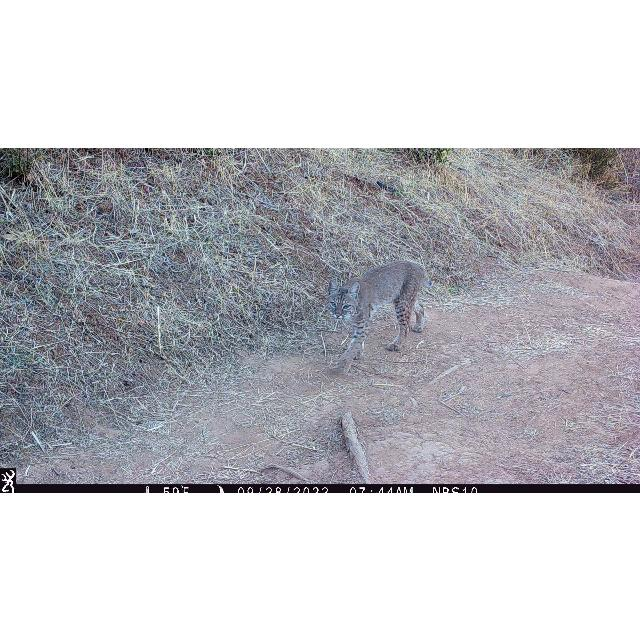animals: (326, 259, 428, 367)
